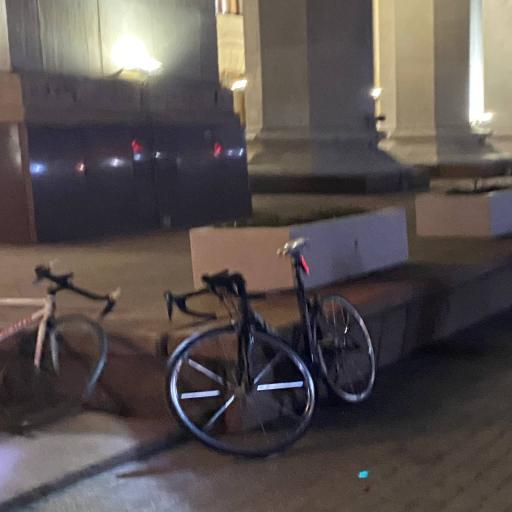bag: (166, 238, 375, 456), (0, 266, 120, 430)
